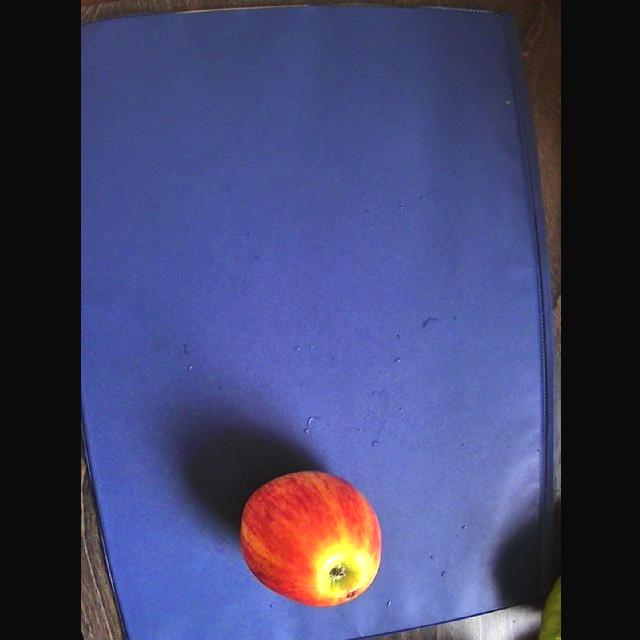manzana: (239, 471, 381, 606)
